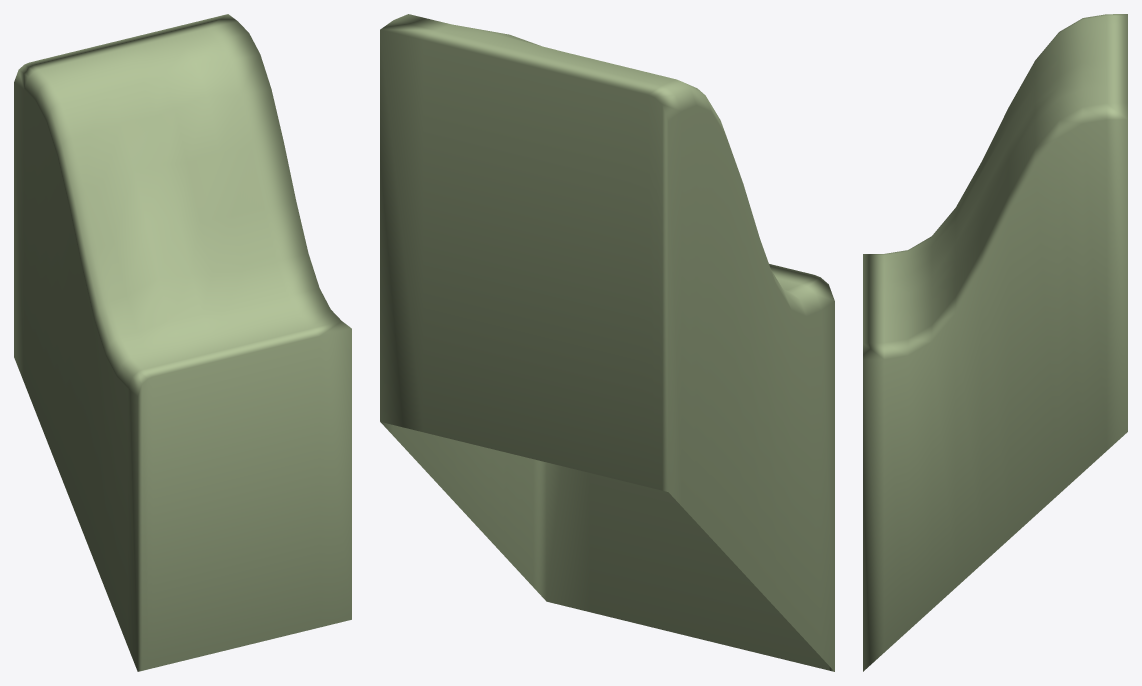
Rendered from ground-ramp-l-21.glb.
3 views of the same model, side by side, from view 1: azimuth 30°, elevation 25°; view 2: azimuth 150°, elevation 25°; view 3: azimuth 270°, elevation 25° (orthographic). The views are drawn at different scales.
Visible parts, largest first — view 1: ground-ramp-l-21; view 2: ground-ramp-l-21; view 3: ground-ramp-l-21.
Part boxes in pixels (bbox=[...]): ground-ramp-l-21: bbox=[14, 14, 351, 671]; ground-ramp-l-21: bbox=[380, 14, 834, 671]; ground-ramp-l-21: bbox=[863, 14, 1127, 671].
Size of the model in its own units: 1 by 2.3 by 1.
